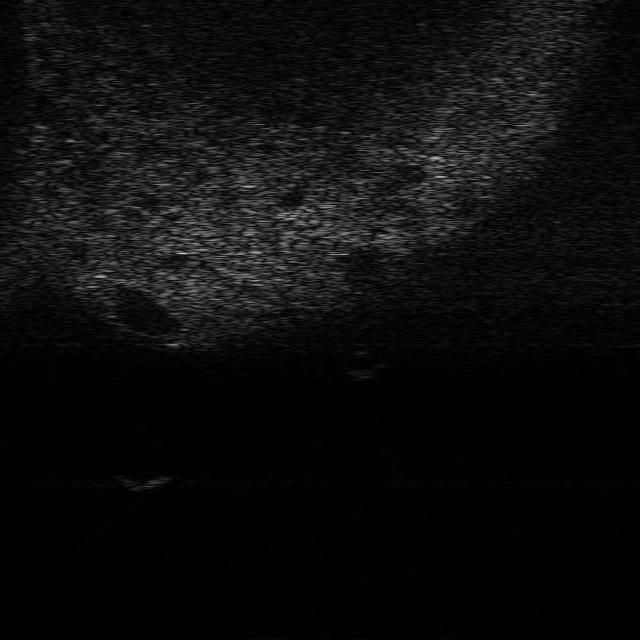ball: (334, 350, 388, 381)
cube: (111, 474, 172, 490)
